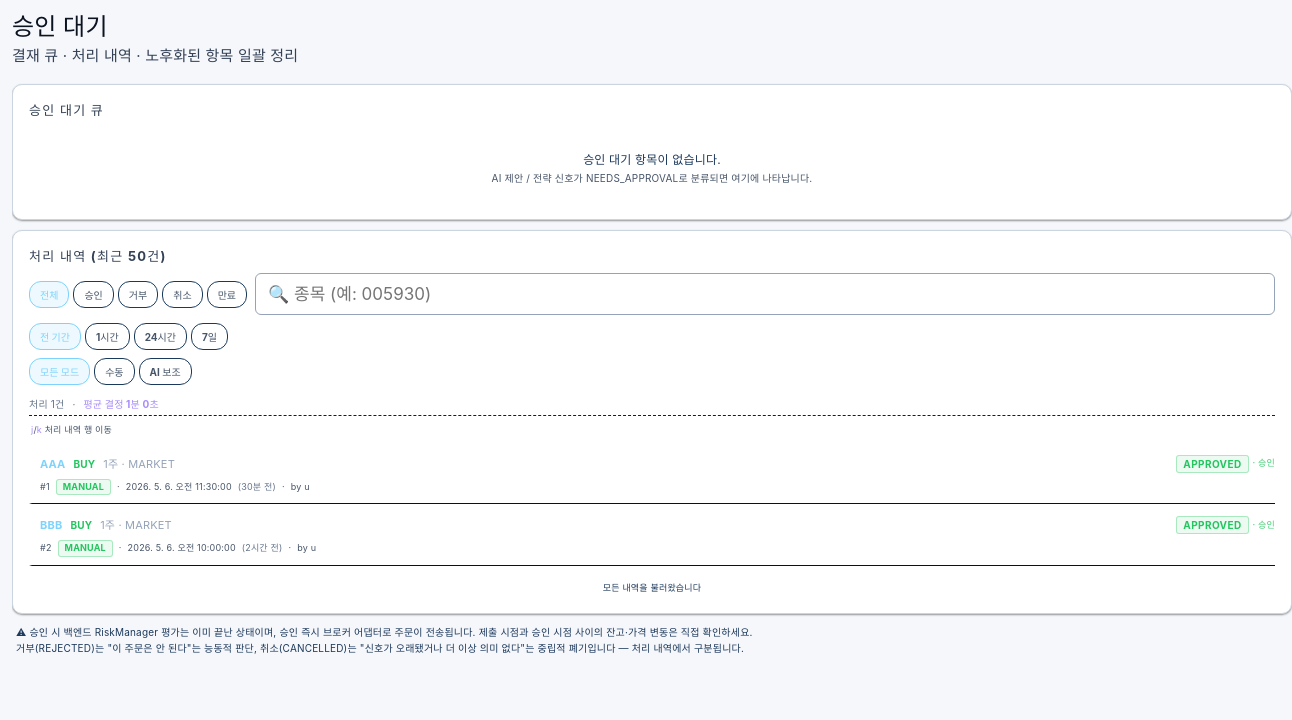
it: <Approvals> 처리 내역 time-bucket filter › 1시간 chip narrows to rows decided within the last hour
The image size is (1292, 720).
Step 1. Click the radio button labelled "1시간" → x=107, y=337, box x1=85 y1=323 x2=130 y2=350
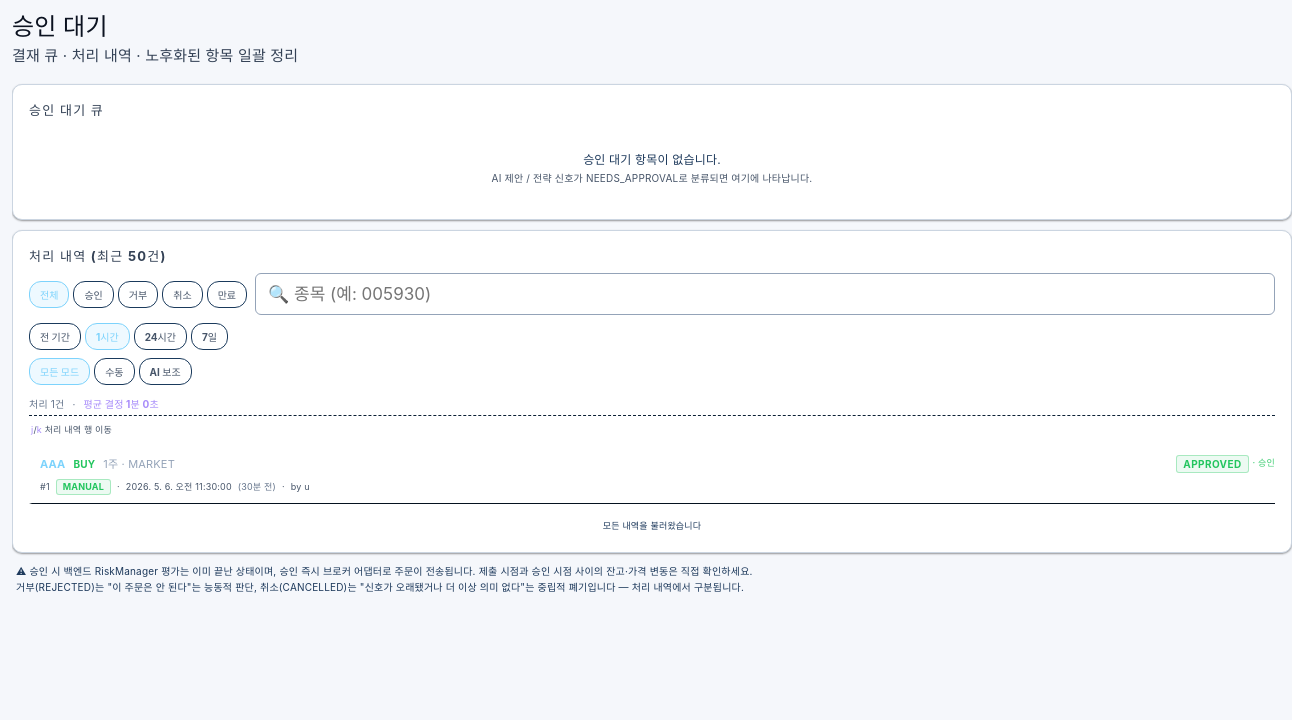
Expected: the text "AAA" is shown, x1=40 y1=457 x2=66 y2=471
Now the text "BBB" is gone
